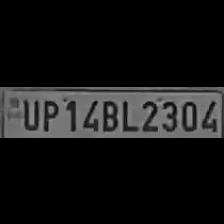0: (178, 97, 196, 131)
1: (60, 96, 78, 132)
2: (138, 97, 158, 131)
3: (159, 96, 177, 130)
4: (79, 96, 99, 130), (199, 96, 219, 130)
B: (98, 96, 118, 130)
L: (118, 96, 136, 130)
P: (40, 96, 60, 132)
U: (20, 96, 38, 130)
